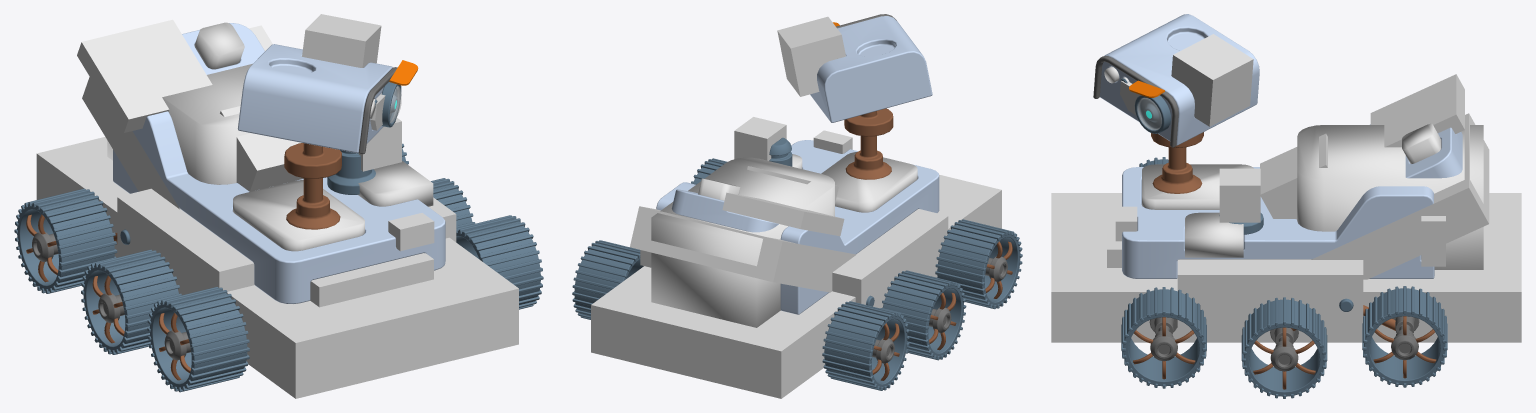
Rendered from mars-rover-4.glb.
3 views of the same model, side by side, from view 1: azimuth 30°, elevation 25°; view 2: azimuth 150°, elevation 25°; view 3: azimuth 270°, elevation 25° (orthographic). The views are drawn at different scales.
Visible parts, largest first — view 1: Cube.014, Rover, Plane.010, Cube.013, Cube.003, Circle, Circle.006, Cube, Plane.006, Circle.001, Circle.009, Circle.008 (+21 smaller); view 2: Cube.014, Cube, Plane.010, Rover, Cube.015, Cube.003, Circle.009, Circle.011, Circle, Cube.006, Plane.006, Circle.001 (+12 smaller); view 3: Cube.014, Rover, Cube, Cube.003, Cube.015, Plane.010, Cube.006, Cube.013, Circle, Circle.009, Circle.001, Plane.006 (+21 smaller).
Part boxes in pixels (box(x1,y1,x2,y2)): Cube.014: box(36, 137, 518, 398); Rover: box(113, 111, 445, 303); Plane.010: box(237, 44, 392, 153); Cube.013: box(77, 19, 212, 132); Cube.003: box(117, 188, 456, 294); Circle: box(149, 218, 540, 389); Circle.006: box(147, 215, 543, 392); Cube: box(107, 63, 252, 184); Plane.006: box(233, 180, 364, 251); Circle.001: box(83, 181, 472, 352); Circle.009: box(17, 148, 405, 291); Circle.008: box(81, 178, 475, 354); Cube.014: box(591, 174, 1001, 398); Cube: box(651, 157, 834, 327); Plane.010: box(810, 16, 932, 122); Rover: box(656, 140, 939, 314); Cube.015: box(630, 206, 856, 292); Cube.003: box(832, 209, 948, 308); Circle.009: box(574, 243, 907, 388); Circle.011: box(572, 240, 909, 390); Circle: box(694, 161, 1020, 306); Cube.006: box(777, 16, 845, 96); Plane.006: box(821, 152, 917, 212); Circle.001: box(882, 273, 963, 357); Cube.014: box(1051, 193, 1521, 342); Rover: box(1122, 124, 1434, 278); Cube: box(1297, 125, 1483, 269); Cube.003: box(1177, 259, 1363, 327); Cube.015: box(1311, 113, 1489, 279); Plane.010: box(1100, 14, 1259, 145); Cube.006: box(1171, 34, 1253, 126); Cube.013: box(1370, 74, 1464, 147); Circle: box(1123, 159, 1204, 386); Circle.009: box(1364, 288, 1445, 385); Circle.001: box(1243, 299, 1325, 396); Plane.006: box(1142, 164, 1253, 209).
Bounding box in the file's own units: 3.75 × 3.17 × 4.79.
